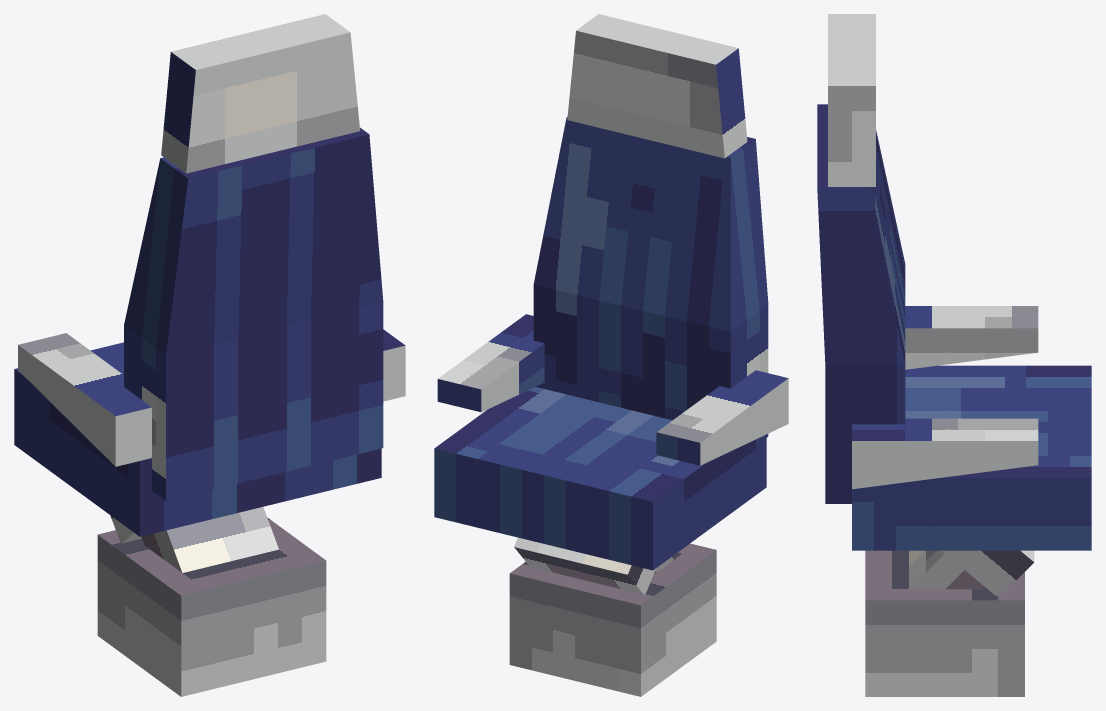
The model's file is cab_seat.obj.
The picture shows the model from 3 angles, left to right: view 1: azimuth 30°, elevation 25°; view 2: azimuth 150°, elevation 25°; view 3: azimuth 270°, elevation 25°; orthographic projection. The views are drawn at different scales.
Visible parts, largest first — view 1: aa408cf1-7e0d-258b-f977-8ba308c42d4e, bb0a86b0-c195-c282-15ae-9e7548d472f7, 28e1b837-d624-6d42-6322-6376a012f0a9, 0cddc4dd-4f5b-2a2f-a356-f004c31a9300, 8be1023b-6fec-5a5d-3fc0-1a78715dadcf, 80578932-5dd3-0aa1-a670-86949df27fb9, ac26e484-8b5c-ab8e-6e20-48b17e2127db; view 2: aa408cf1-7e0d-258b-f977-8ba308c42d4e, 0cddc4dd-4f5b-2a2f-a356-f004c31a9300, bb0a86b0-c195-c282-15ae-9e7548d472f7, 28e1b837-d624-6d42-6322-6376a012f0a9, 8be1023b-6fec-5a5d-3fc0-1a78715dadcf, ac26e484-8b5c-ab8e-6e20-48b17e2127db, d2db39c1-8605-8882-463d-e673995f5d56; view 3: 0cddc4dd-4f5b-2a2f-a356-f004c31a9300, aa408cf1-7e0d-258b-f977-8ba308c42d4e, bb0a86b0-c195-c282-15ae-9e7548d472f7, ac26e484-8b5c-ab8e-6e20-48b17e2127db, 28e1b837-d624-6d42-6322-6376a012f0a9, 8be1023b-6fec-5a5d-3fc0-1a78715dadcf, d2db39c1-8605-8882-463d-e673995f5d56, 80578932-5dd3-0aa1-a670-86949df27fb9.
Boxes of the visible parts, bbox=[...] form: aa408cf1-7e0d-258b-f977-8ba308c42d4e: bbox=[124, 127, 383, 500]; bb0a86b0-c195-c282-15ae-9e7548d472f7: bbox=[97, 517, 326, 696]; 28e1b837-d624-6d42-6322-6376a012f0a9: bbox=[161, 14, 360, 173]; 0cddc4dd-4f5b-2a2f-a356-f004c31a9300: bbox=[14, 342, 381, 536]; 8be1023b-6fec-5a5d-3fc0-1a78715dadcf: bbox=[18, 333, 151, 466]; 80578932-5dd3-0aa1-a670-86949df27fb9: bbox=[141, 507, 278, 572]; ac26e484-8b5c-ab8e-6e20-48b17e2127db: bbox=[383, 329, 405, 401]; aa408cf1-7e0d-258b-f977-8ba308c42d4e: bbox=[533, 117, 768, 437]; 0cddc4dd-4f5b-2a2f-a356-f004c31a9300: bbox=[434, 387, 766, 570]; bb0a86b0-c195-c282-15ae-9e7548d472f7: bbox=[509, 543, 716, 696]; 28e1b837-d624-6d42-6322-6376a012f0a9: bbox=[567, 14, 747, 158]; 8be1023b-6fec-5a5d-3fc0-1a78715dadcf: bbox=[656, 370, 788, 465]; ac26e484-8b5c-ab8e-6e20-48b17e2127db: bbox=[437, 314, 544, 412]; d2db39c1-8605-8882-463d-e673995f5d56: bbox=[514, 537, 656, 594]; 0cddc4dd-4f5b-2a2f-a356-f004c31a9300: bbox=[852, 365, 1091, 550]; aa408cf1-7e0d-258b-f977-8ba308c42d4e: bbox=[817, 104, 905, 503]; bb0a86b0-c195-c282-15ae-9e7548d472f7: bbox=[865, 550, 1024, 696]; ac26e484-8b5c-ab8e-6e20-48b17e2127db: bbox=[852, 418, 1038, 489]; 28e1b837-d624-6d42-6322-6376a012f0a9: bbox=[828, 14, 875, 186]; 8be1023b-6fec-5a5d-3fc0-1a78715dadcf: bbox=[905, 306, 1038, 369]; d2db39c1-8605-8882-463d-e673995f5d56: bbox=[942, 550, 1034, 595]; 80578932-5dd3-0aa1-a670-86949df27fb9: bbox=[909, 550, 983, 589].
Size of the model in its own units: 0.75 by 1.59 by 0.6437.
